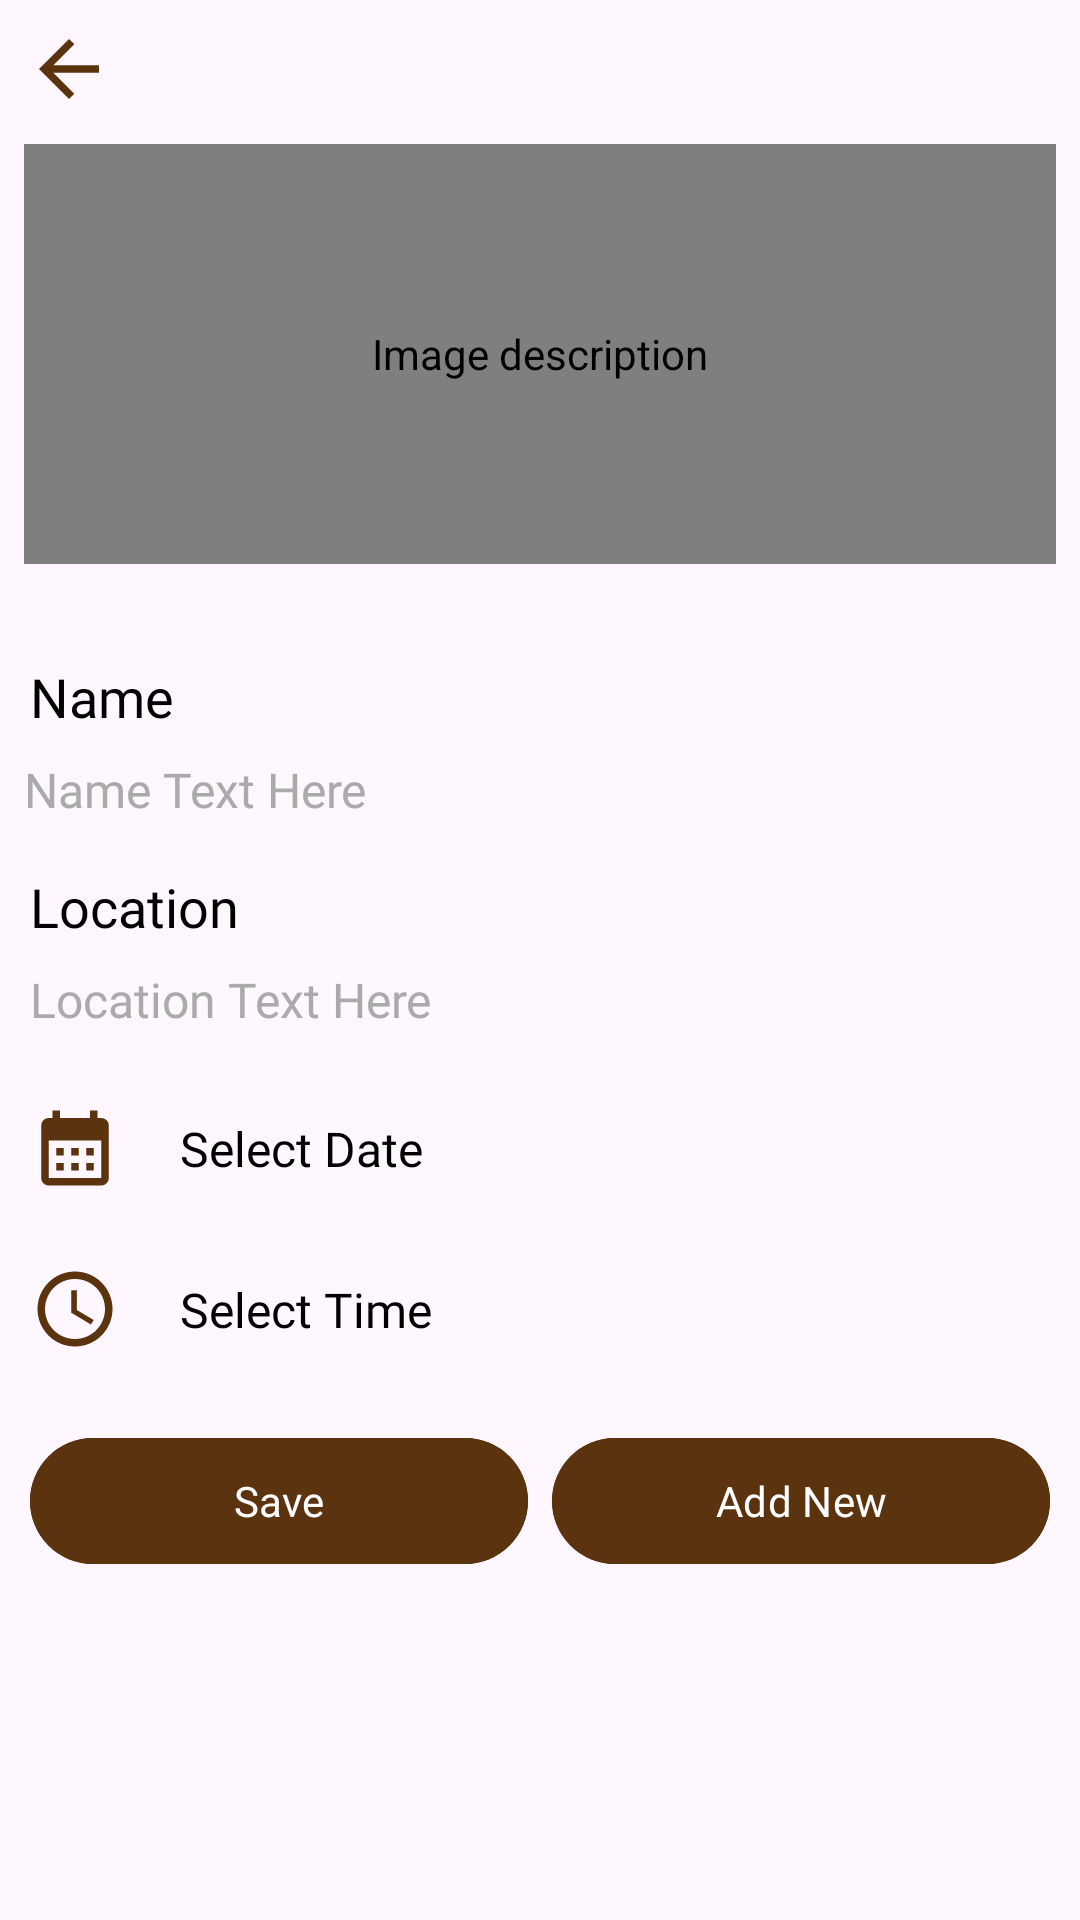

Where icons sit on this 1080 x 1920 app screen, as (x1=x1, y1=y1, x2=x2, y2=y2):
Back: (x1=39, y1=39, x2=99, y2=99)
calendar: (x1=41, y1=1110, x2=109, y2=1186)
clock: (x1=37, y1=1271, x2=113, y2=1347)
